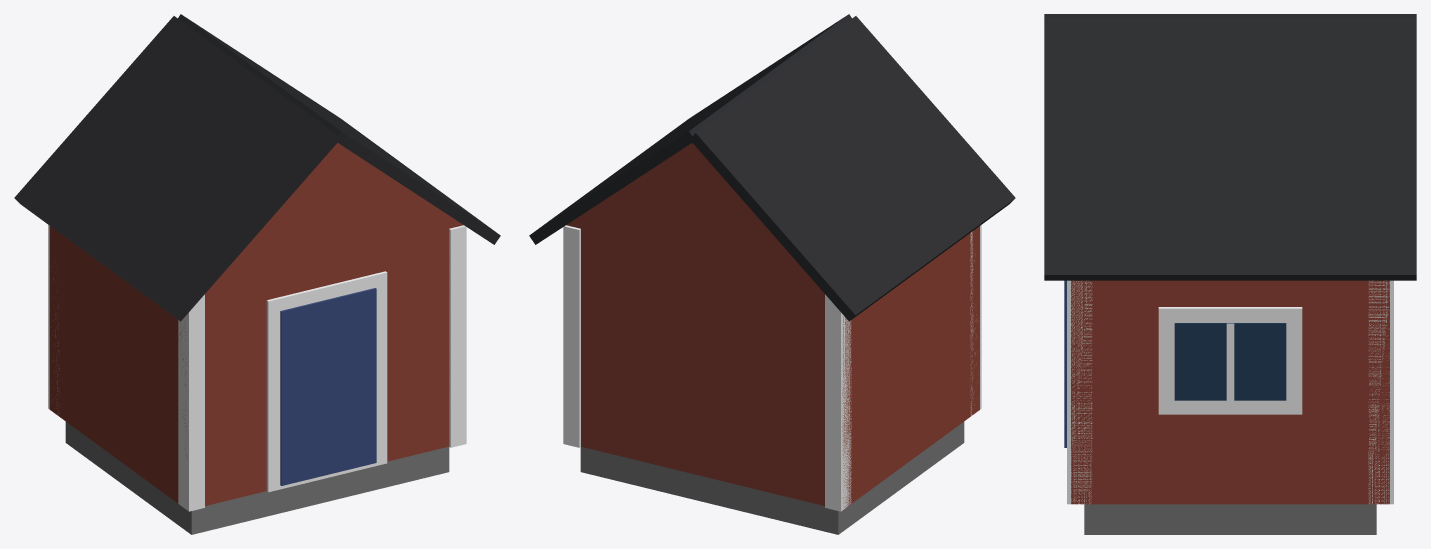
File: scatter-single1.fbx
3 renders of one model, left to right at view 1: azimuth 30°, elevation 25°; view 2: azimuth 150°, elevation 25°; view 3: azimuth 270°, elevation 25°, orthographic. The views are drawn at different scales.
Visible parts, largest first — view 1: a2000/200/scatter-single1; view 2: a2000/200/scatter-single1; view 3: a2000/200/scatter-single1.
Boxes of the visible parts, bbox=[...] form: a2000/200/scatter-single1: bbox=[14, 14, 500, 534]; a2000/200/scatter-single1: bbox=[529, 14, 1015, 534]; a2000/200/scatter-single1: bbox=[1044, 14, 1416, 534].
Bounding box in the file's own units: 1.65 × 1.85 × 1.4.
